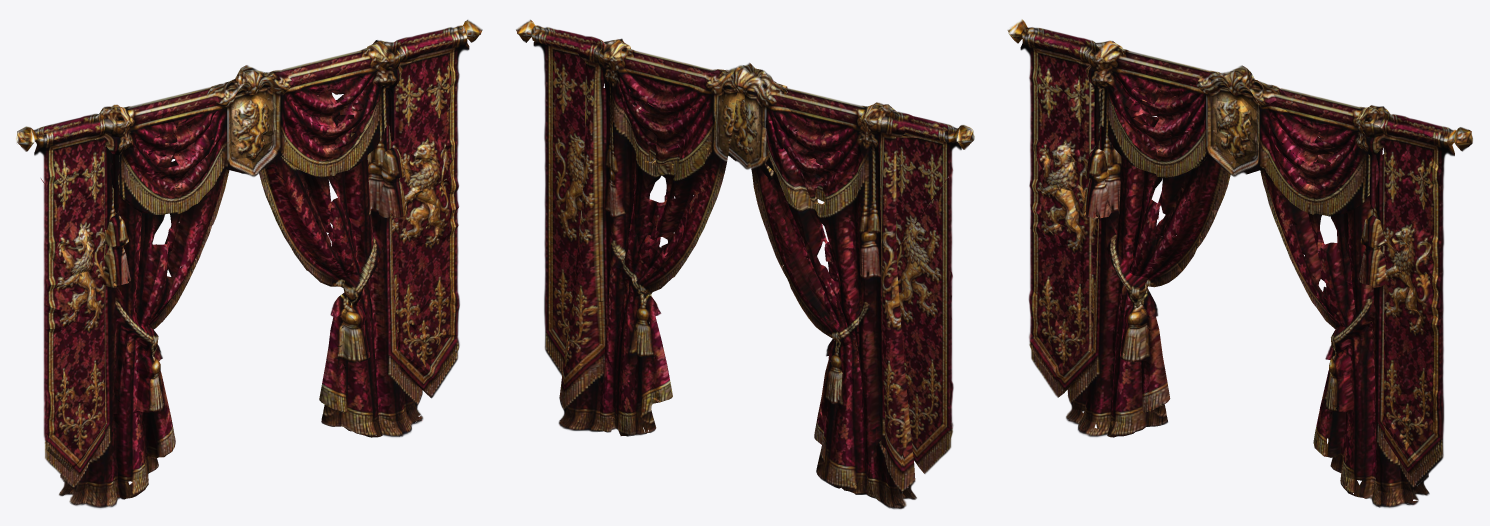
Rendered from cortina_vermelha.glb.
3 renders of one model, left to right at view 1: azimuth 30°, elevation 25°; view 2: azimuth 150°, elevation 25°; view 3: azimuth 330°, elevation 25°, orthographic.
Visible parts, largest first — view 1: tmp7hepg0v6.ply; view 2: tmp7hepg0v6.ply; view 3: tmp7hepg0v6.ply.
Part boxes in pixels (x1=…): tmp7hepg0v6.ply: x1=16, y1=20, x2=482, y2=508; tmp7hepg0v6.ply: x1=516, y1=20, x2=974, y2=509; tmp7hepg0v6.ply: x1=1007, y1=19, x2=1472, y2=507.
Size of the model in its own units: 1.96 by 1.62 by 0.2064.
Materials: 1 (1 with a texture image).
